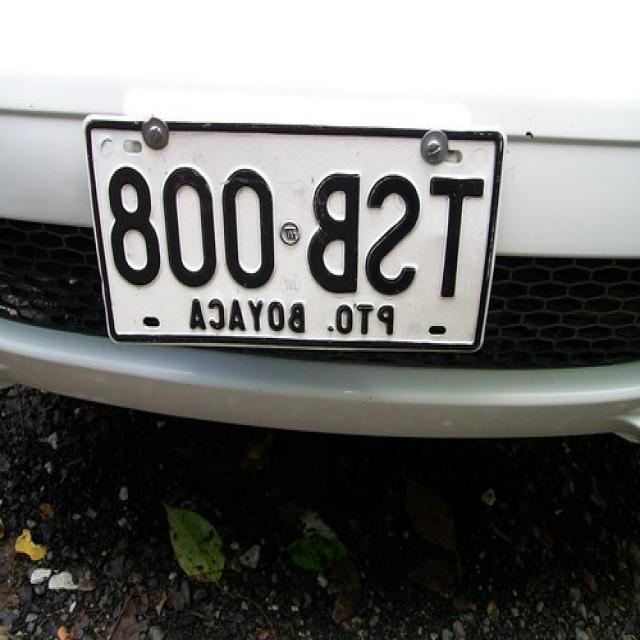placas: (89, 153, 487, 303)
